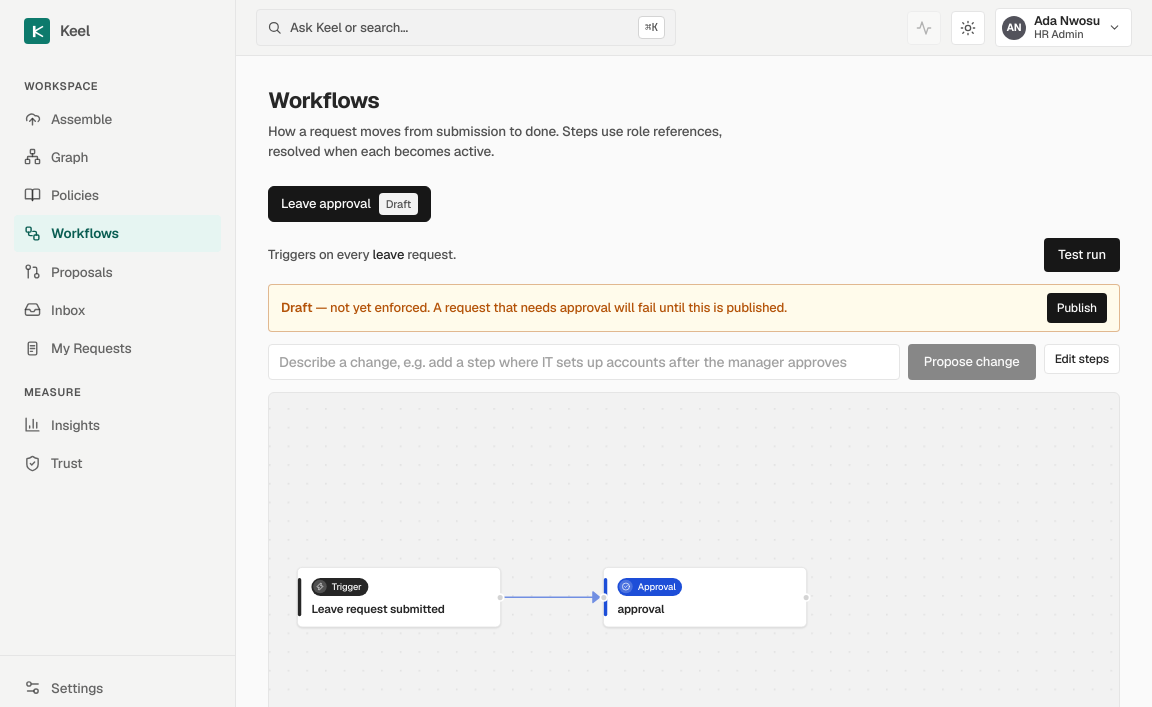
Test: /workflows › publishes a draft workflow and clears the warning once it refetches as active
Expected: the text "not yet enforced" is shown, [312,299,787,316]
Click the button "Publish" at (1077, 308), box [1047,293,1107,323]
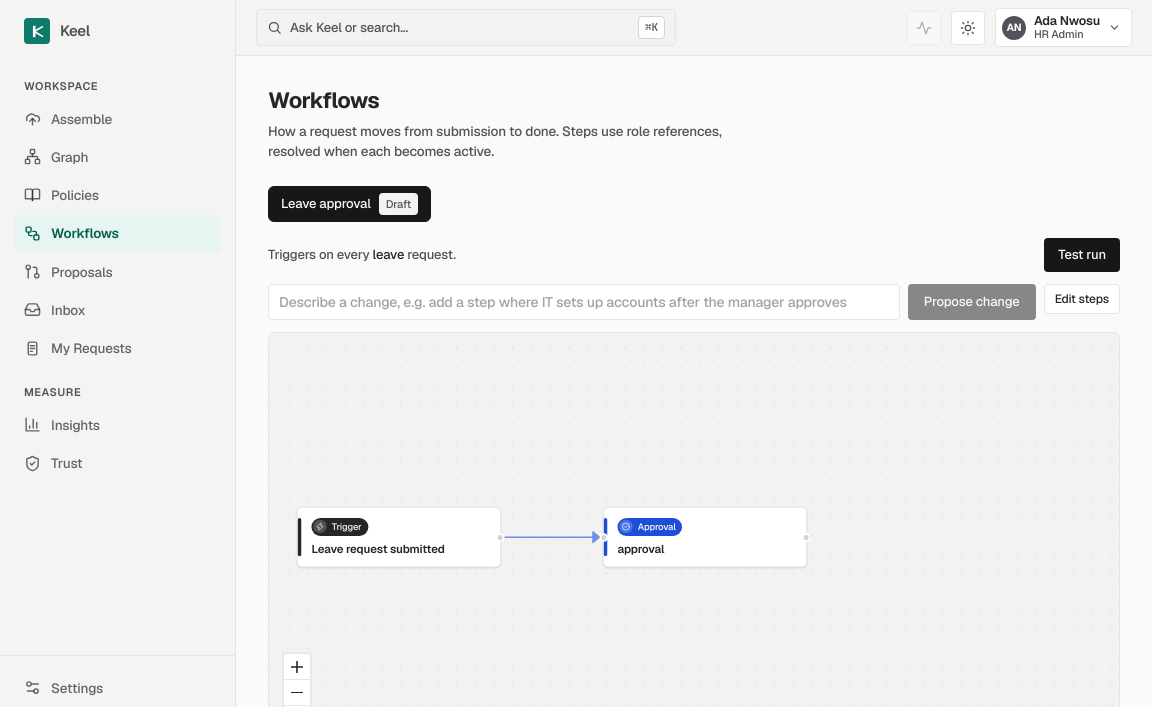
Expected: the text "not yet enforced" is gone
